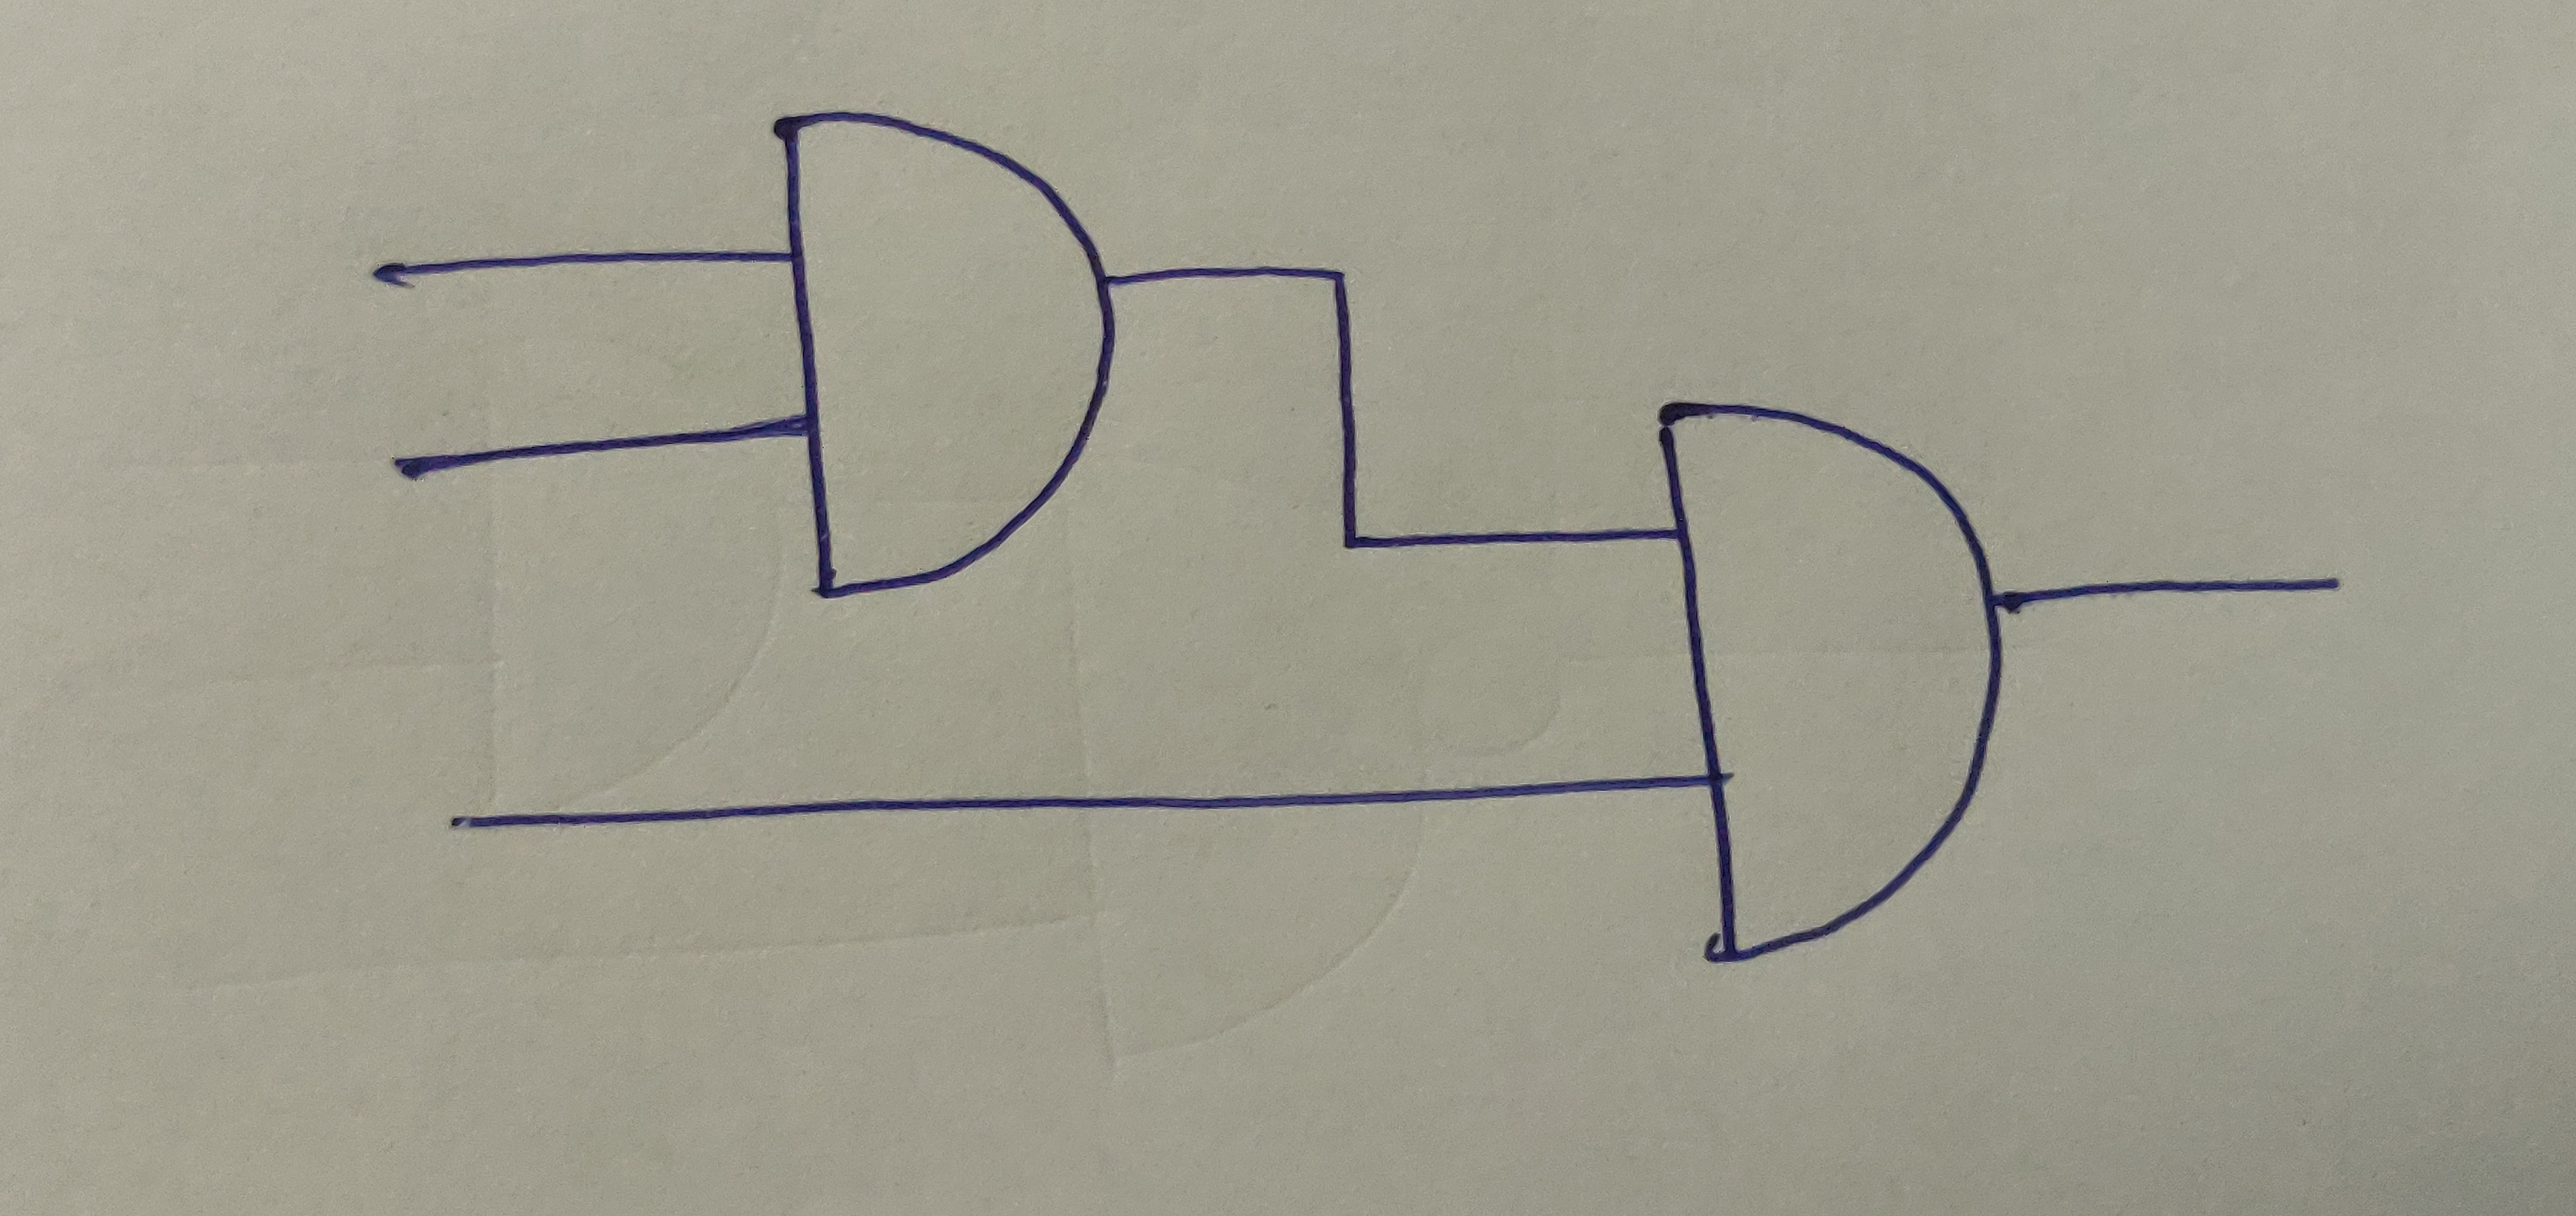and: (1641, 393, 2004, 960), (771, 107, 1119, 593)
